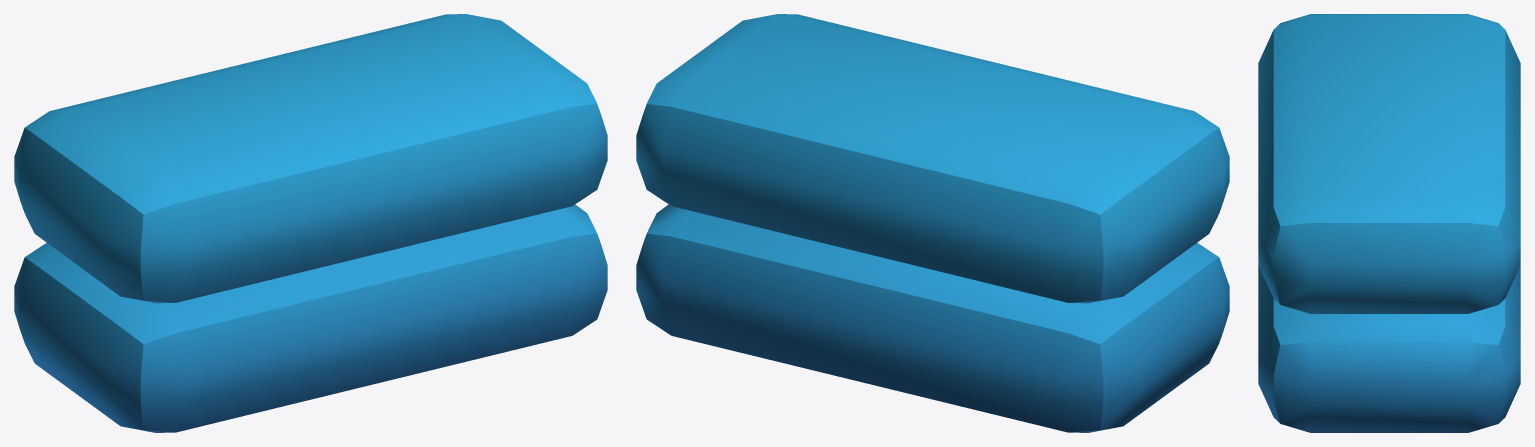
The model's file is barrier_2x1x1_blue.glb.
The picture shows the model from 3 angles, left to right: view 1: azimuth 30°, elevation 25°; view 2: azimuth 150°, elevation 25°; view 3: azimuth 270°, elevation 25°; orthographic projection. The views are drawn at different scales.
Parts seen in each view (by area): view 1: barrier_2x1x1_blue; view 2: barrier_2x1x1_blue; view 3: barrier_2x1x1_blue.
Boxes of the visible parts, left/top/right/bottom form: barrier_2x1x1_blue: left=14, top=14, right=607, bottom=432; barrier_2x1x1_blue: left=636, top=14, right=1229, bottom=432; barrier_2x1x1_blue: left=1258, top=14, right=1520, bottom=432.
Bounding box in the file's own units: 2 × 1 × 1.
1 material, 1 textured.
